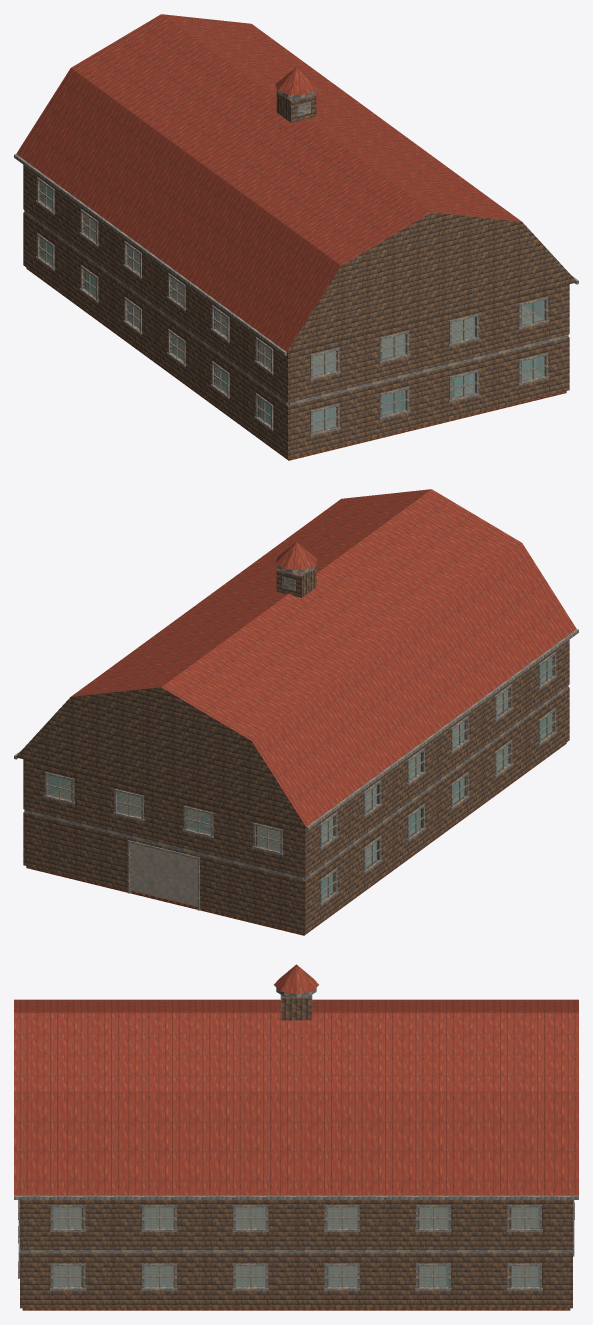
File: red-crest-barn.gltf
3 views of the same model, one above another, from view 1: azimuth 30°, elevation 25°; view 2: azimuth 150°, elevation 25°; view 3: azimuth 270°, elevation 25° (orthographic). The views are drawn at different scales.
Visible parts, largest first — view 1: roof-L1-brown-shingle, exterior-L0-red-timber, exterior-L1-red-timber, roof-L1-red-timber, trim-L1-dark-wood, trim-L0-dark-wood, glazing-L1-glass, glazing-L0-glass, exterior-L0-dark-wood, roof-L1-dark-wood, floor-L0-floor, floor-L1-floor (+3 smaller); view 2: roof-L1-brown-shingle, exterior-L0-red-timber, exterior-L1-red-timber, roof-L1-red-timber, trim-L1-dark-wood, door-leaf-L0-blue-metal, glazing-L1-glass, trim-L0-dark-wood, exterior-L0-dark-wood, roof-L1-dark-wood, floor-L0-floor, glazing-L0-glass (+3 smaller); view 3: roof-L1-brown-shingle, exterior-L0-red-timber, exterior-L1-red-timber, floor-L0-floor, glazing-L1-glass, glazing-L0-glass, trim-L0-dark-wood, trim-L1-dark-wood, roof-L1-dark-wood, floor-L1-floor, exterior-L0-dark-wood, details-L1-brown-shingle (+1 smaller).
Part boxes in pixels (bbox=[...]): roof-L1-brown-shingle: bbox=[16, 14, 521, 351]; exterior-L0-red-timber: bbox=[23, 212, 569, 458]; exterior-L1-red-timber: bbox=[23, 165, 569, 402]; roof-L1-red-timber: bbox=[287, 212, 577, 352]; trim-L1-dark-wood: bbox=[35, 177, 549, 380]; trim-L0-dark-wood: bbox=[35, 233, 549, 436]; glazing-L1-glass: bbox=[40, 182, 544, 375]; glazing-L0-glass: bbox=[40, 238, 544, 431]; exterior-L0-dark-wood: bbox=[24, 210, 568, 405]; roof-L1-dark-wood: bbox=[14, 154, 578, 355]; floor-L0-floor: bbox=[26, 268, 566, 460]; floor-L1-floor: bbox=[91, 220, 540, 372]; roof-L1-brown-shingle: bbox=[71, 489, 576, 826]; exterior-L0-red-timber: bbox=[23, 687, 569, 933]; exterior-L1-red-timber: bbox=[23, 640, 569, 877]; roof-L1-red-timber: bbox=[16, 687, 306, 827]; trim-L1-dark-wood: bbox=[43, 652, 557, 855]; door-leaf-L0-blue-metal: bbox=[131, 843, 197, 906]; glazing-L1-glass: bbox=[48, 657, 552, 850]; trim-L0-dark-wood: bbox=[127, 708, 557, 910]; exterior-L0-dark-wood: bbox=[24, 685, 568, 880]; roof-L1-dark-wood: bbox=[14, 629, 578, 830]; floor-L0-floor: bbox=[26, 743, 566, 935]; glazing-L0-glass: bbox=[322, 713, 552, 899]; roof-L1-brown-shingle: bbox=[14, 999, 578, 1195]; exterior-L0-red-timber: bbox=[20, 1252, 572, 1308]; exterior-L1-red-timber: bbox=[20, 1200, 572, 1249]; floor-L0-floor: bbox=[22, 1267, 570, 1310]; glazing-L1-glass: bbox=[53, 1207, 539, 1228]; glazing-L0-glass: bbox=[53, 1266, 539, 1286]; trim-L0-dark-wood: bbox=[18, 1200, 574, 1290]; trim-L1-dark-wood: bbox=[18, 1200, 574, 1231]; roof-L1-dark-wood: bbox=[14, 1195, 578, 1199]; floor-L1-floor: bbox=[55, 1208, 537, 1225]; exterior-L0-dark-wood: bbox=[20, 1250, 572, 1253]; details-L1-brown-shingle: bbox=[274, 964, 318, 994].
Bounding box in the file's own units: 11.66 × 9.99 × 18.56.
9 materials, 8 textured.
